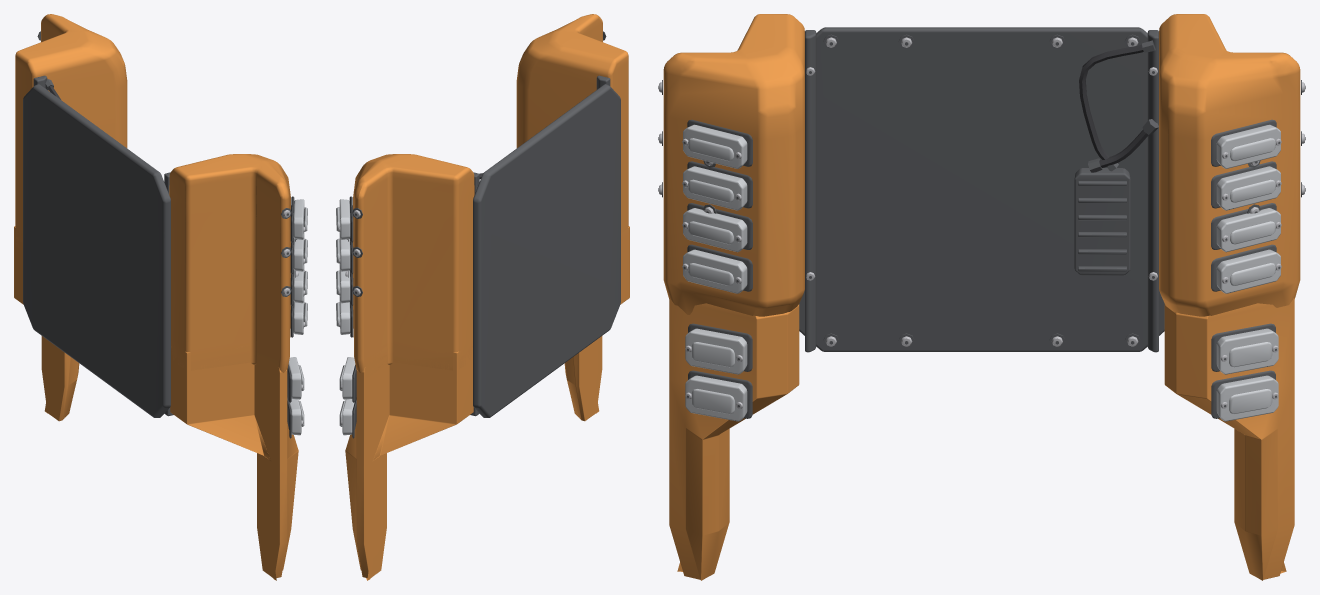
File: plate_wedge_top_reactive.glb
3 renders of one model, left to right at view 1: azimuth 30°, elevation 25°; view 2: azimuth 150°, elevation 25°; view 3: azimuth 270°, elevation 25°, orthographic. The views are drawn at different scales.
Parts seen in each view (by area): view 1: body; view 2: body; view 3: body.
Part boxes in pixels (left/top/right/bottom): body: left=14, top=14, right=307, bottom=580; body: left=336, top=14, right=629, bottom=580; body: left=658, top=14, right=1305, bottom=580.
Size of the model in its own units: 0.1945 by 0.6106 by 0.6868.
